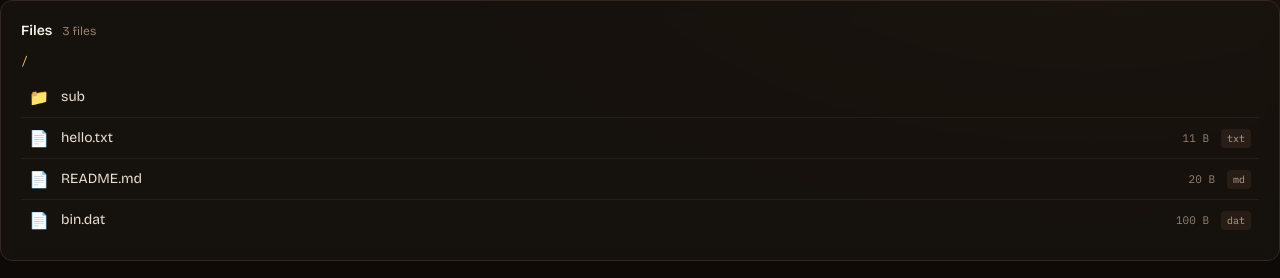
FileBrowser › navigates into a folder and updates the breadcrumb
This screenshot has width=1280, height=278.
What coordinates should you click on to do the following:
click the text "sub"
I would click on:
 (73, 96)
Its box is [61, 88, 85, 105].
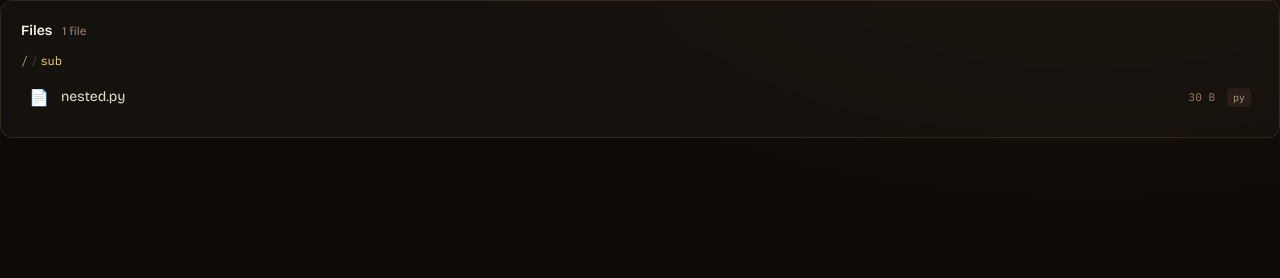
Expected: the text "nested.py" is shown, [61, 88, 126, 105]
Expected: the text "py" is shown, [1227, 88, 1251, 106]
